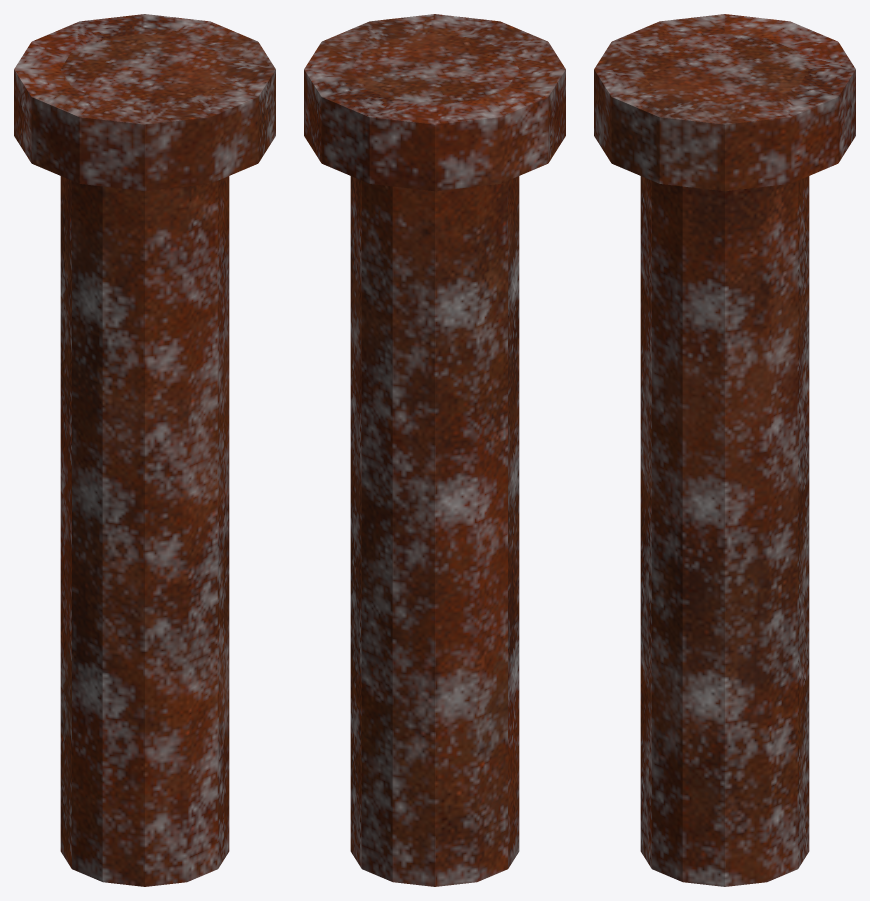
Rendered from Rod 1.fbx.
3 views of the same model, side by side, from view 1: azimuth 30°, elevation 25°; view 2: azimuth 150°, elevation 25°; view 3: azimuth 270°, elevation 25° (orthographic).
Visible parts, largest first — view 1: Rod; view 2: Rod; view 3: Rod.
Part boxes in pixels (x1=…): Rod: x1=14, y1=14, x2=275, y2=886; Rod: x1=304, y1=14, x2=565, y2=886; Rod: x1=594, y1=14, x2=855, y2=886.
Bounding box in the file's own units: 43.41 × 143 × 43.41.
Materials: 1 (1 with a texture image).
